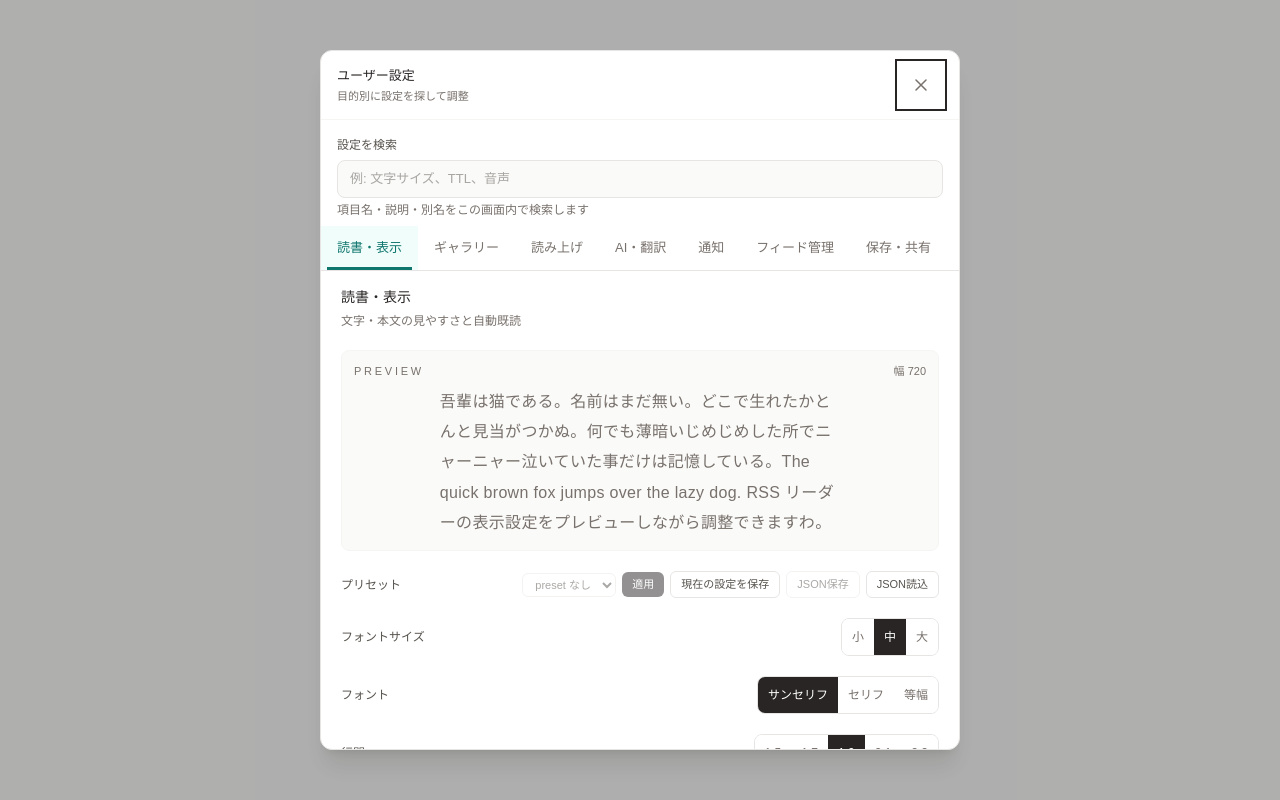
it: purpose-based settings navigation › discards a late previous-account configuration without navigation-induced writes
Click the tab "通知" at (711, 248), box top-left (682, 226), bottom-right (740, 270)
(page scrolled)
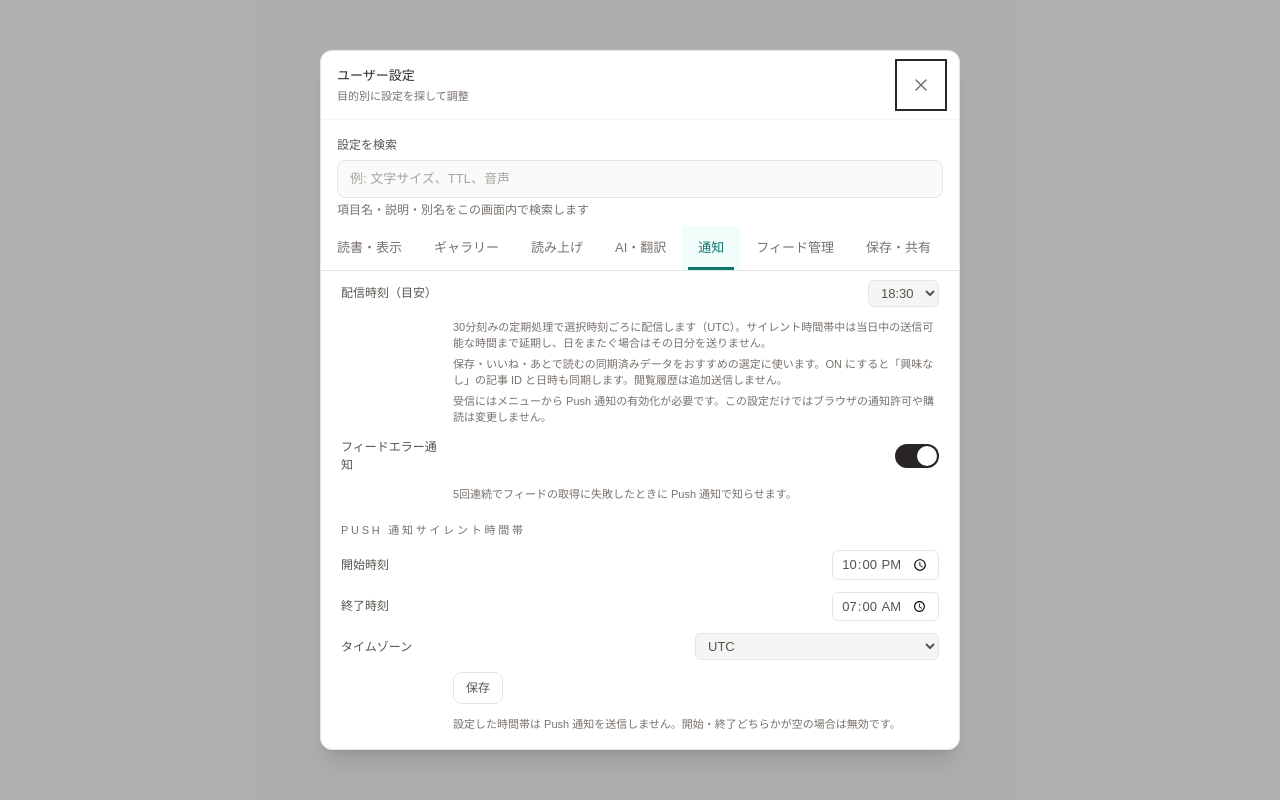
Expected: the time field named "サイレント時間帯 開始時刻" holds "22:00", top-left (832, 550), bottom-right (939, 580)
Expected: the dropdown named "Push 通知 タイムゾーン" shows "UTC", top-left (695, 633), bottom-right (939, 660)
